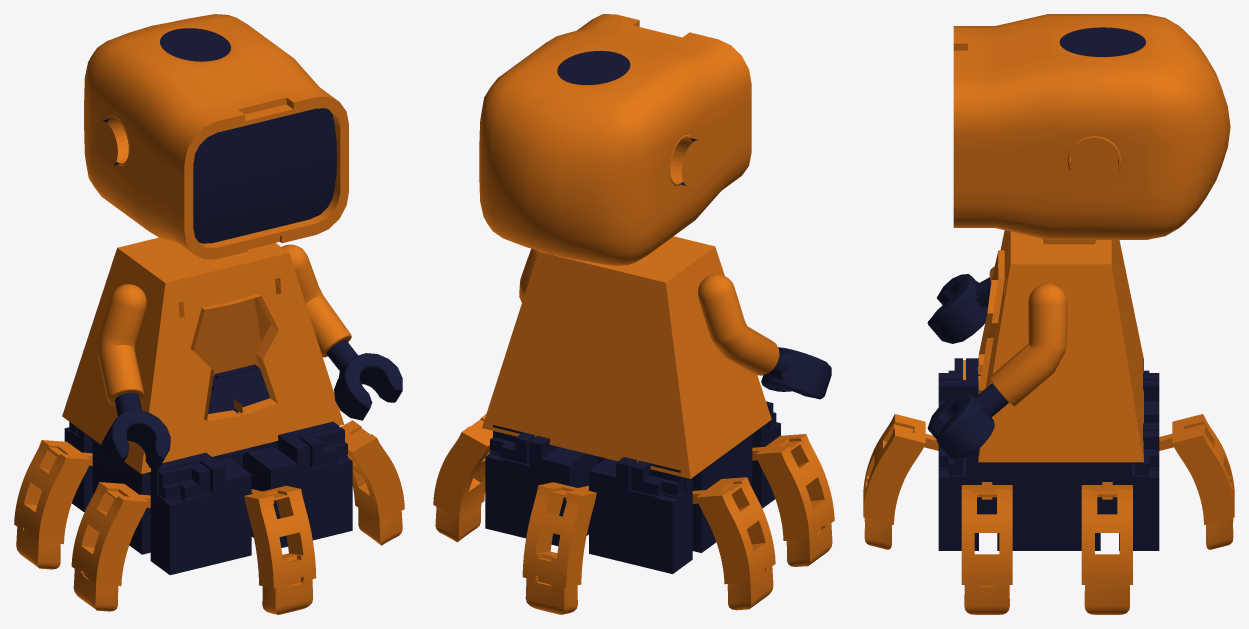
The model's file is robot.obj.
3 renders of one model, left to right at view 1: azimuth 30°, elevation 25°; view 2: azimuth 150°, elevation 25°; view 3: azimuth 270°, elevation 25°, orthographic. The views are drawn at different scales.
Parts seen in each view (by area): view 1: Head, body, Leg, Lower_body, hand; view 2: Head, body, Leg, Lower_body, hand; view 3: Head, body, Leg, Lower_body, hand.
Part boxes in pixels (bbox=[...]): Head: bbox=[84, 14, 348, 259]; body: bbox=[62, 237, 344, 473]; Leg: bbox=[14, 420, 404, 614]; Lower_body: bbox=[64, 364, 352, 575]; hand: bbox=[98, 244, 402, 470]; Head: bbox=[479, 14, 751, 265]; body: bbox=[482, 236, 771, 478]; Leg: bbox=[433, 414, 834, 614]; Lower_body: bbox=[485, 401, 780, 574]; hand: bbox=[519, 249, 831, 399]; Head: bbox=[953, 14, 1230, 244]; body: bbox=[978, 230, 1143, 462]; Leg: bbox=[863, 360, 1234, 614]; Lower_body: bbox=[938, 358, 1159, 550]; hand: bbox=[927, 266, 1067, 458].
Bounding box in the file's own units: 2.34 × 3.52 × 2.33.
